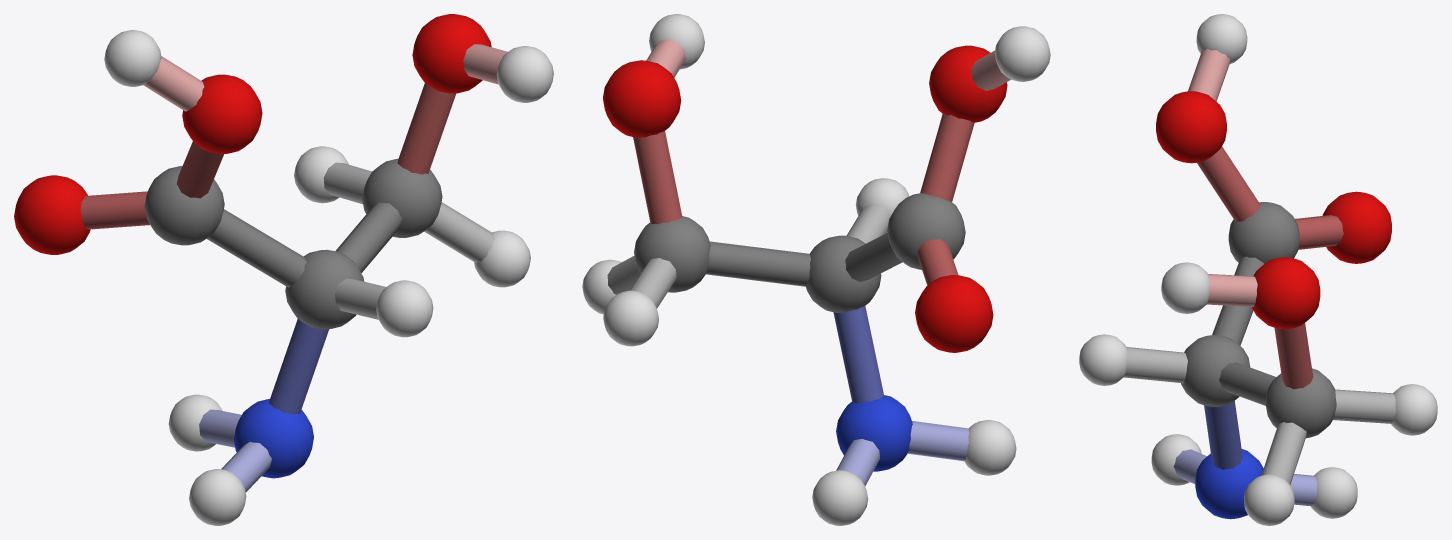
Rendered from serine.glb.
3 views of the same model, side by side, from view 1: azimuth 30°, elevation 25°; view 2: azimuth 150°, elevation 25°; view 3: azimuth 270°, elevation 25° (orthographic). The views are drawn at different scales.
Bounding box in the file's own units: 0.176 × 0.18 × 0.1315.
